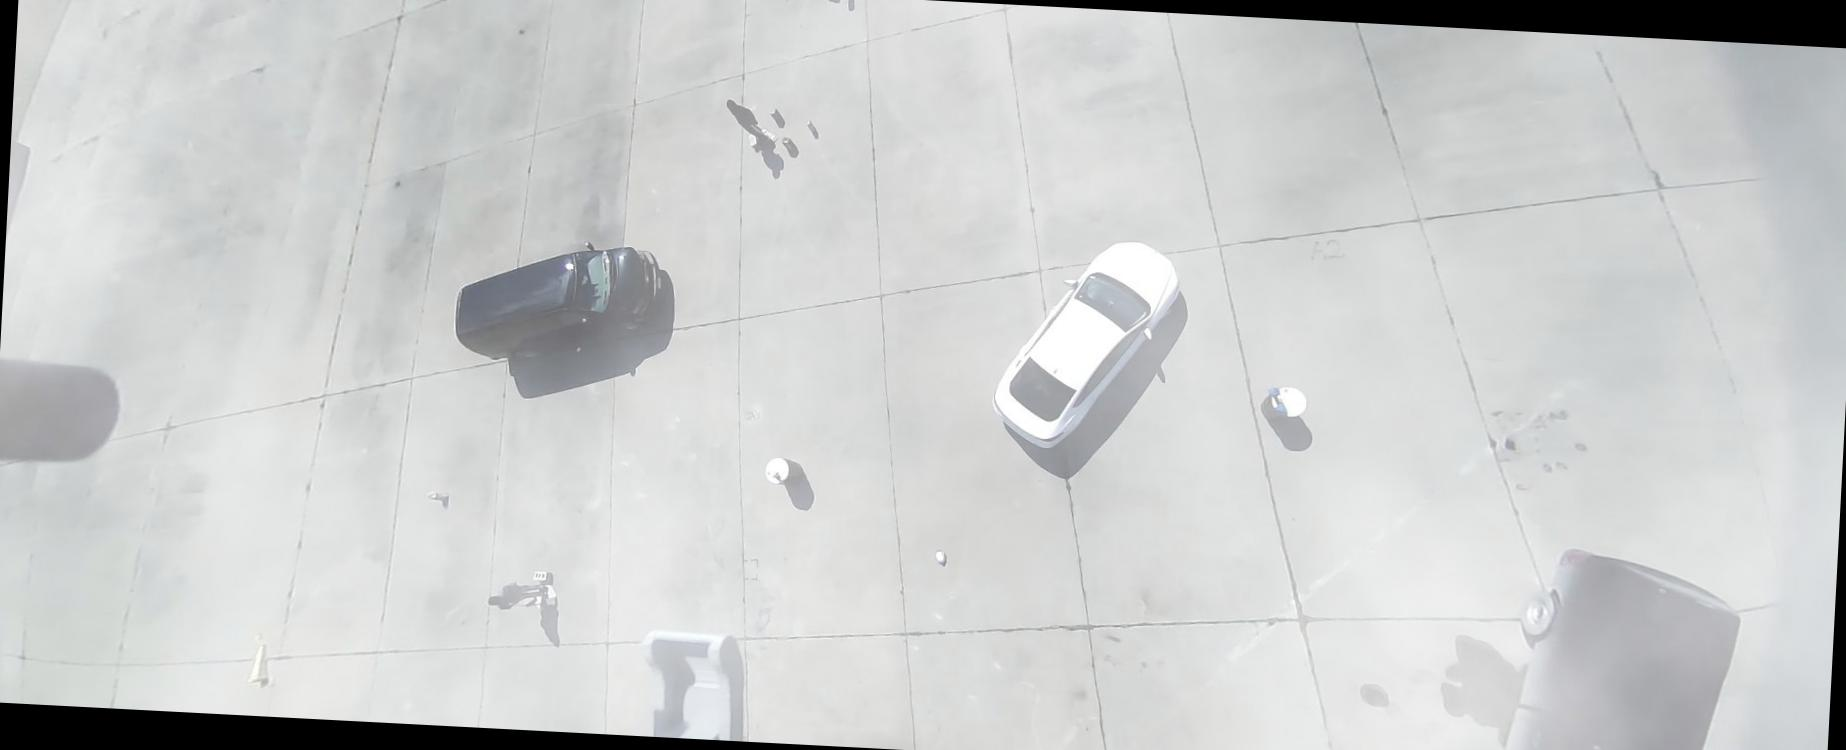vehicle: (1497, 546, 1746, 749), (988, 234, 1184, 456)
